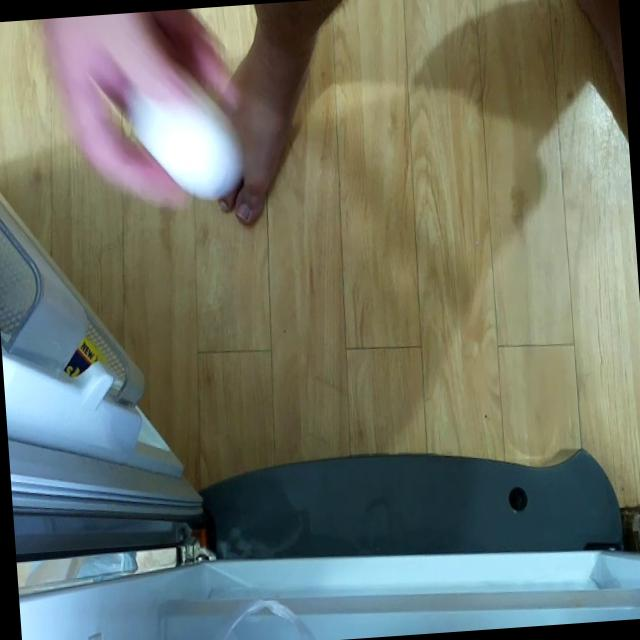egg: (124, 61, 243, 208)
